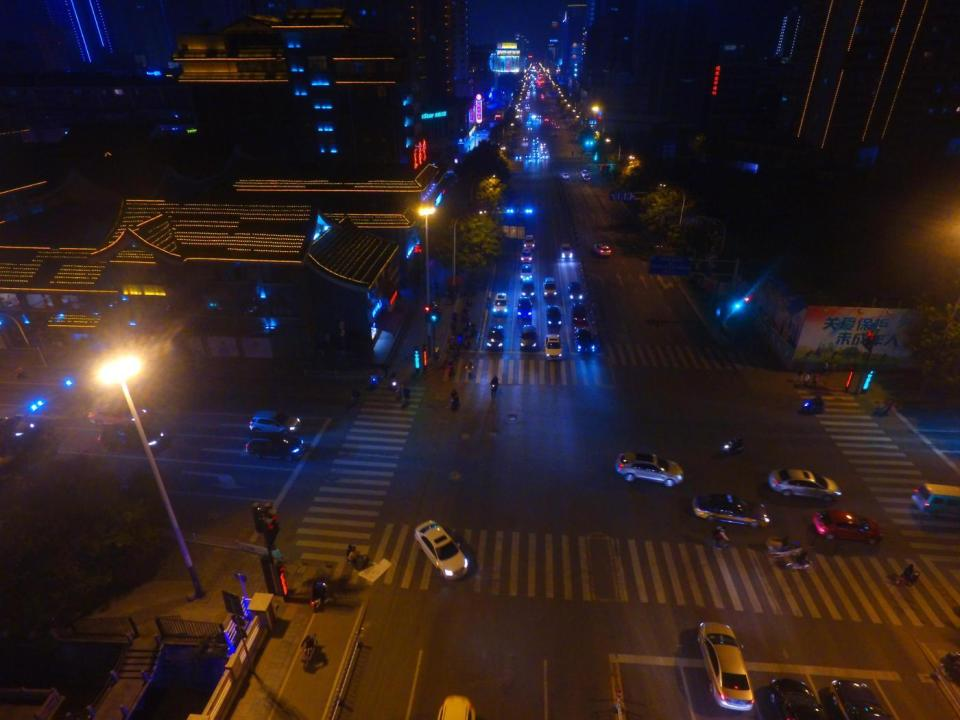car: (698, 617, 755, 714), (410, 521, 469, 580), (692, 487, 772, 528), (614, 444, 684, 489), (829, 678, 894, 720), (767, 468, 842, 502), (768, 678, 828, 720), (812, 510, 883, 543), (98, 423, 166, 452), (88, 398, 147, 430), (246, 430, 306, 461), (249, 407, 302, 436), (1, 415, 36, 439), (574, 326, 594, 354), (544, 334, 562, 362), (519, 323, 538, 349), (546, 304, 563, 329), (487, 324, 503, 350), (517, 295, 534, 319), (492, 292, 509, 316), (570, 302, 587, 324), (542, 276, 557, 298), (568, 282, 584, 302), (592, 242, 612, 256), (519, 263, 534, 281), (519, 248, 534, 264), (559, 242, 573, 259), (523, 234, 536, 249), (562, 172, 570, 179), (524, 152, 532, 159), (581, 174, 590, 180), (515, 153, 522, 160), (540, 149, 548, 155), (581, 170, 588, 176), (542, 153, 548, 159), (527, 126, 532, 132), (550, 120, 556, 125), (523, 136, 528, 141), (556, 124, 560, 129)
van: (910, 482, 959, 516), (521, 277, 536, 298)
